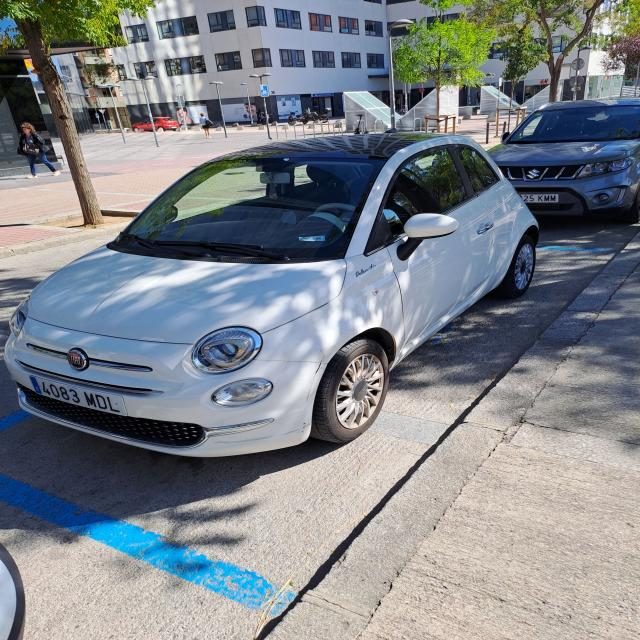license_plate-34Td: (30, 375, 125, 414)
